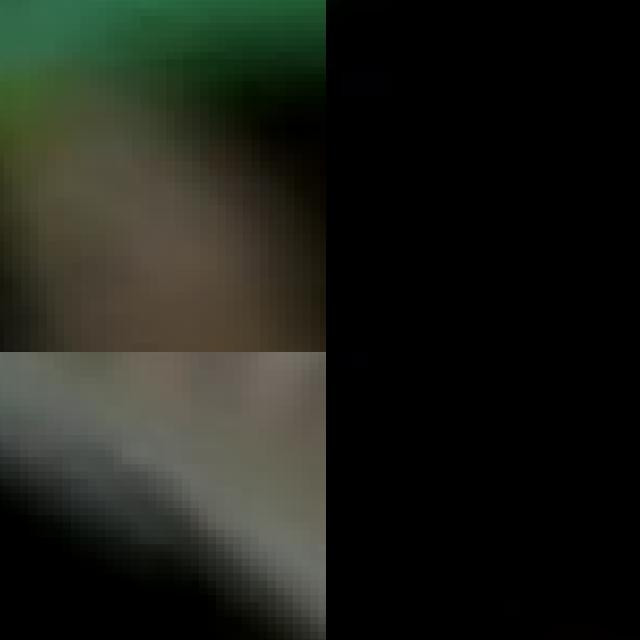fish: (0, 1, 326, 352)
